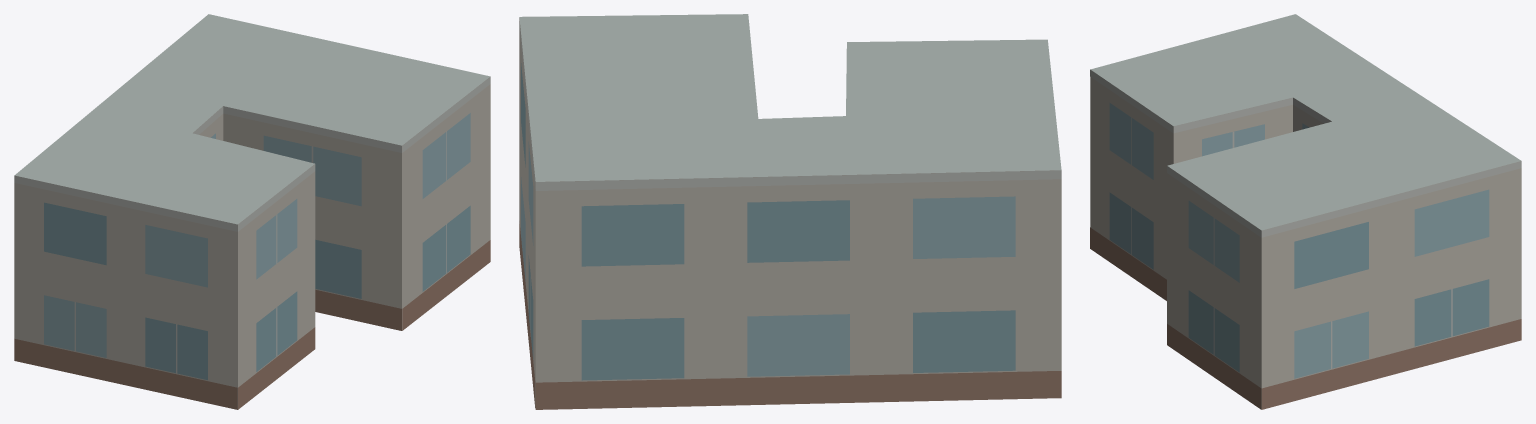
The model's file is survey-upis-32751804.glb.
The picture shows the model from 3 angles, left to right: view 1: azimuth 30°, elevation 25°; view 2: azimuth 150°, elevation 25°; view 3: azimuth 270°, elevation 25°; orthographic projection. The views are drawn at different scales.
Visible parts, largest first — view 1: survey-upis-32751804.tmp; view 2: survey-upis-32751804.tmp; view 3: survey-upis-32751804.tmp.
Boxes of the visible parts, box(x1,y1,x2,y2) form: survey-upis-32751804.tmp: box(14, 14, 490, 409); survey-upis-32751804.tmp: box(519, 14, 1061, 409); survey-upis-32751804.tmp: box(1090, 14, 1521, 409).
Bounding box in the file's own units: 15.81 × 6.1 × 13.31.
